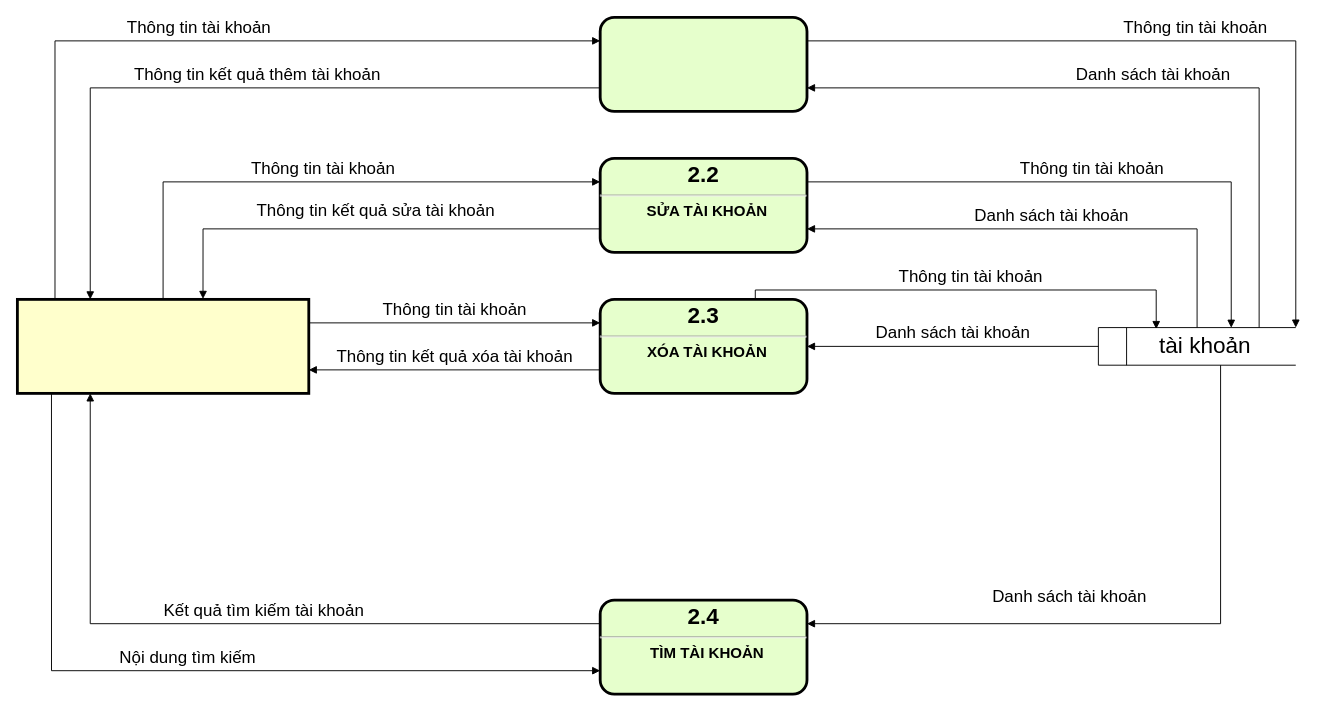
This 1320x712 diagram has some shape labels left out. Each missing label, with the box of its shape:
2.1 THÊM TÀI KHOẢN: (598, 16, 808, 112)
QUẢN LÝ CỬA HÀNG: (16, 298, 310, 394)
